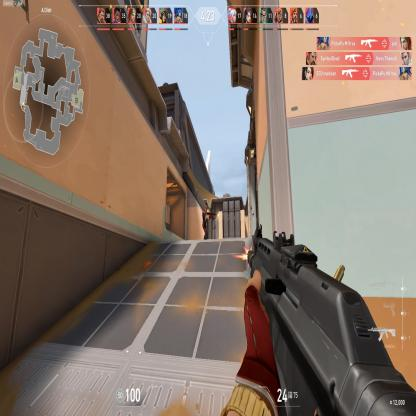enemy: (201, 205, 214, 240)
